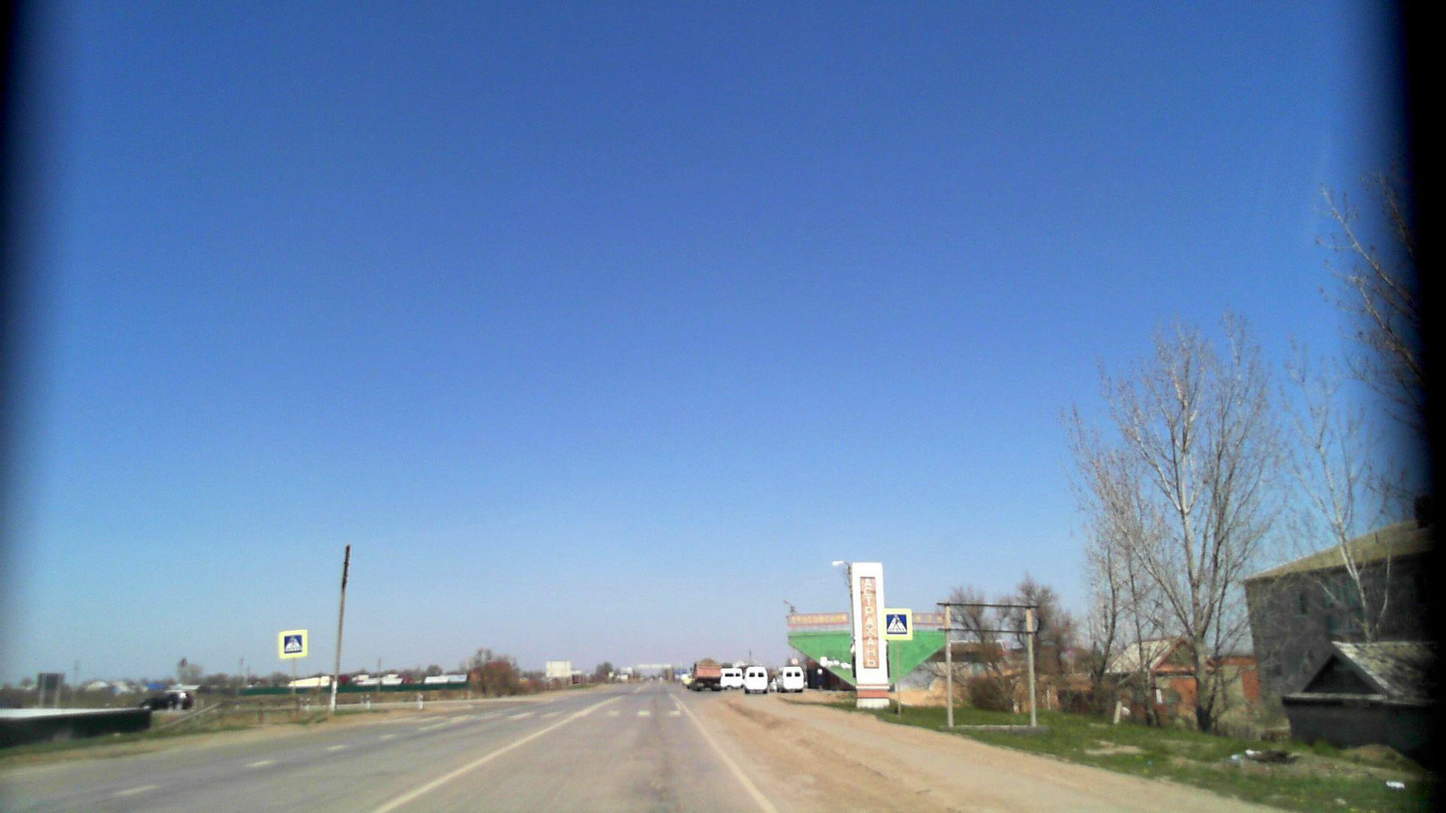road_sign: (883, 608, 914, 641), (278, 630, 308, 659)
